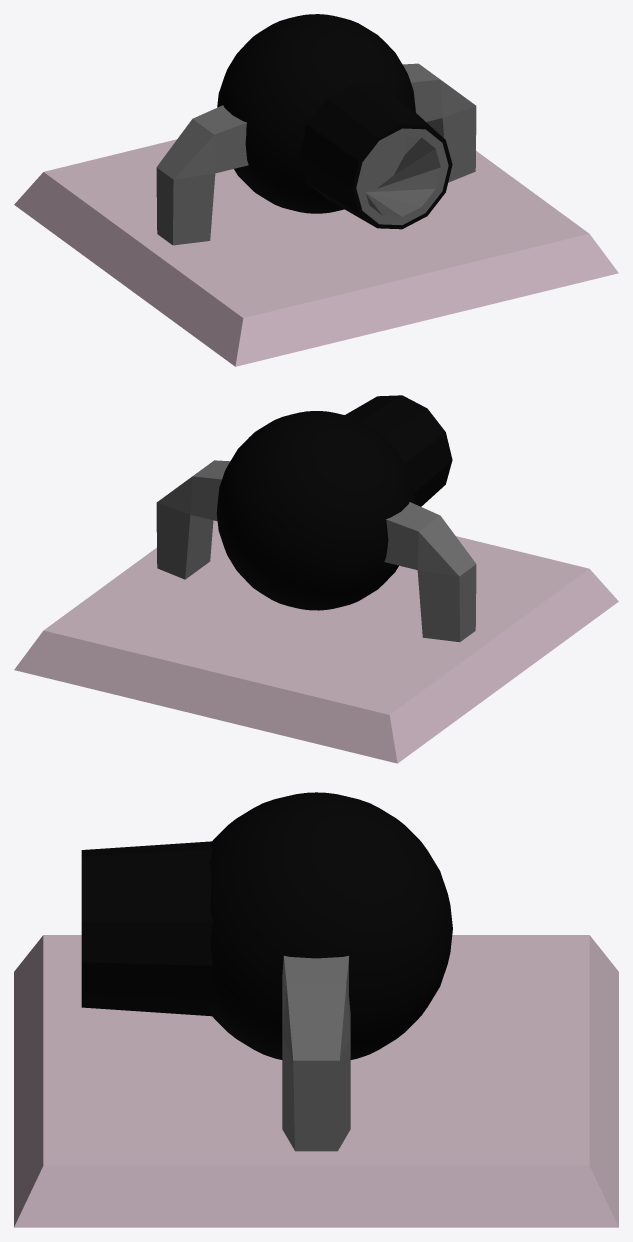
Rendered from Cannon.fbx.
The picture shows the model from 3 angles, top to bottom: view 1: azimuth 30°, elevation 25°; view 2: azimuth 150°, elevation 25°; view 3: azimuth 270°, elevation 25°; orthographic projection. The views are drawn at different scales.
Visible parts, largest first — view 1: Cannon; view 2: Cannon; view 3: Cannon.
Part boxes in pixels (left/top/right/bottom): Cannon: left=14, top=14, right=618, bottom=366; Cannon: left=14, top=395, right=618, bottom=763; Cannon: left=14, top=792, right=618, bottom=1227.
Bounding box in the file's own units: 443 × 255 × 443.
